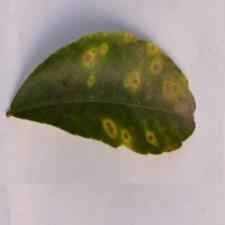Canker: (52, 25, 190, 150)
